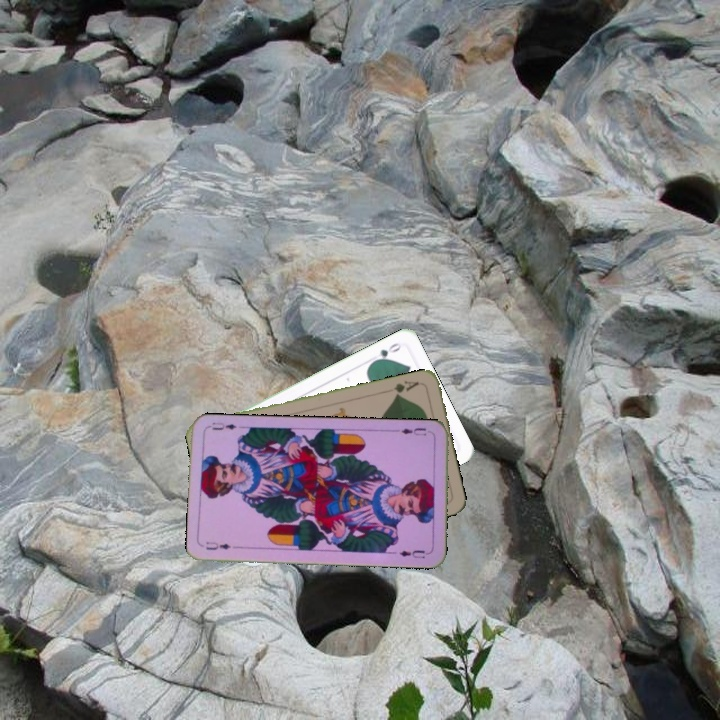EU: (397, 424, 433, 438), (202, 538, 233, 553)
GA: (390, 377, 421, 399)
GO: (368, 338, 404, 366)
